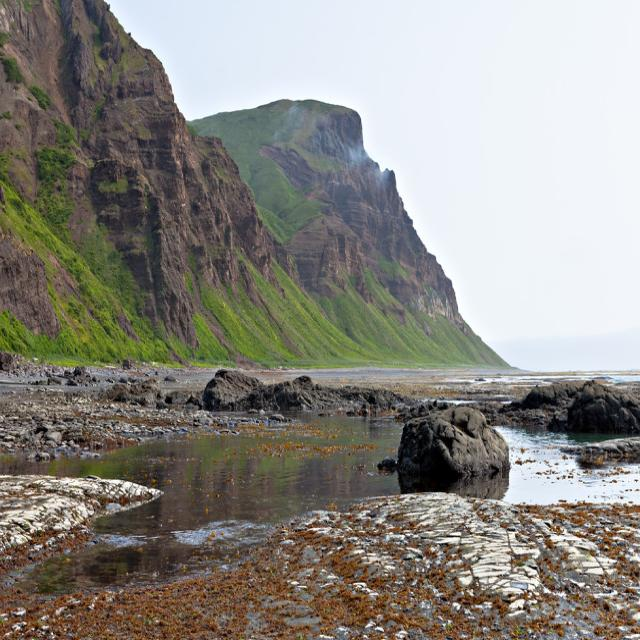reef: (368, 375, 640, 540)
